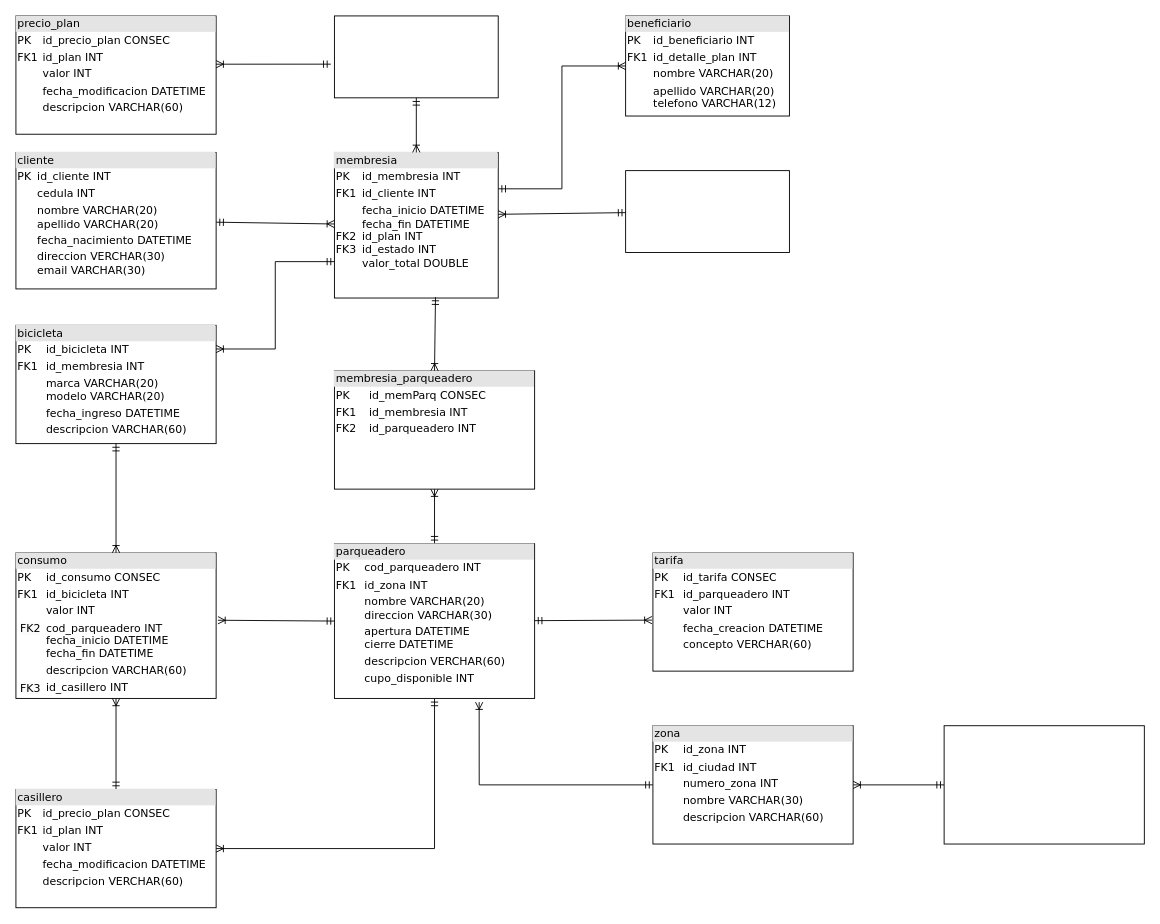
Some shapes in this 1160 by 924 pixel diagram are drawn without their labels. Here are the shapes that lost their labels. From the top down, the centre of each, then its label:
At point (416, 56): "plan PK id_plan INT nombre_plan varchar(20) descripcion VARCHAR(60)".
At point (707, 211): "estado PK id_estado INT nombre VARCHAR(20) descripcion VARCHAR(60)".
At point (1043, 784): "ciudad PK id_ciudad INT nombre VARCHAR(30) descripcion VARCHAR(60)".
